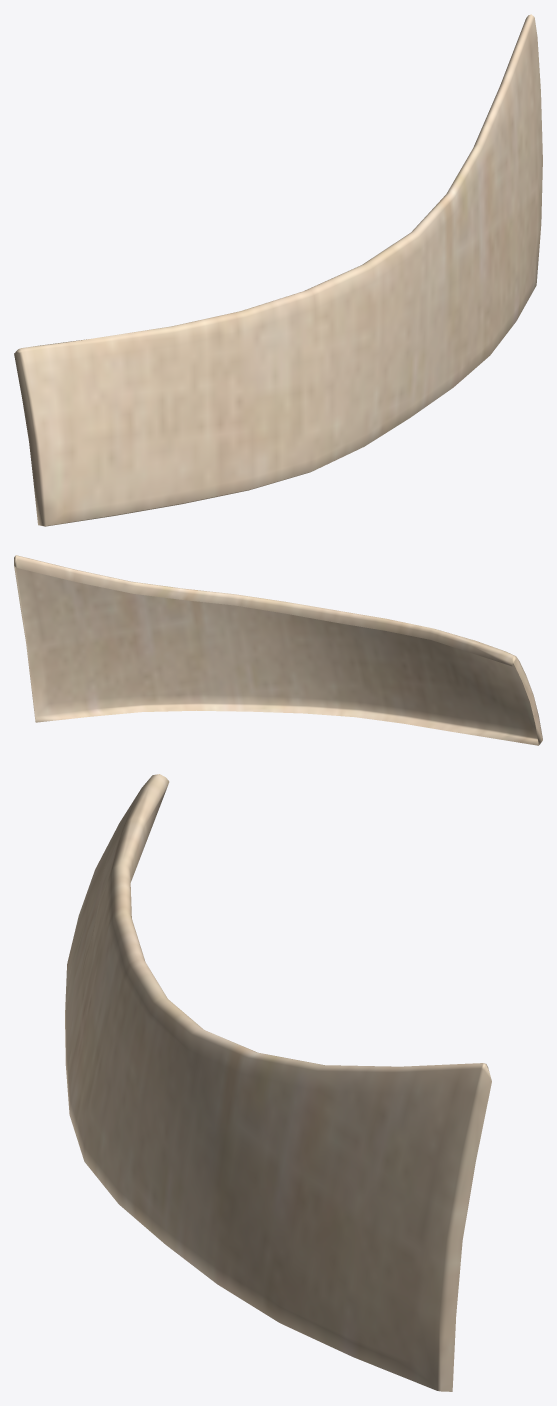
Rendered from upper_halfmoon_pocket_n.glb.
3 renders of one model, top to bottom at view 1: azimuth 30°, elevation 25°; view 2: azimuth 150°, elevation 25°; view 3: azimuth 270°, elevation 25°, orthographic. The views are drawn at different scales.
Visible parts, largest first — view 1: upper_halfmoon_pocket; view 2: upper_halfmoon_pocket; view 3: upper_halfmoon_pocket.
Boxes of the visible parts, x1=… form: upper_halfmoon_pocket: x1=14, y1=14, x2=542, y2=526; upper_halfmoon_pocket: x1=14, y1=555, x2=542, y2=745; upper_halfmoon_pocket: x1=65, y1=774, x2=491, y2=1391.
Size of the model in its own units: 0.0127 by 0.0049 by 0.00551.
Materials: 1 (1 with a texture image).
